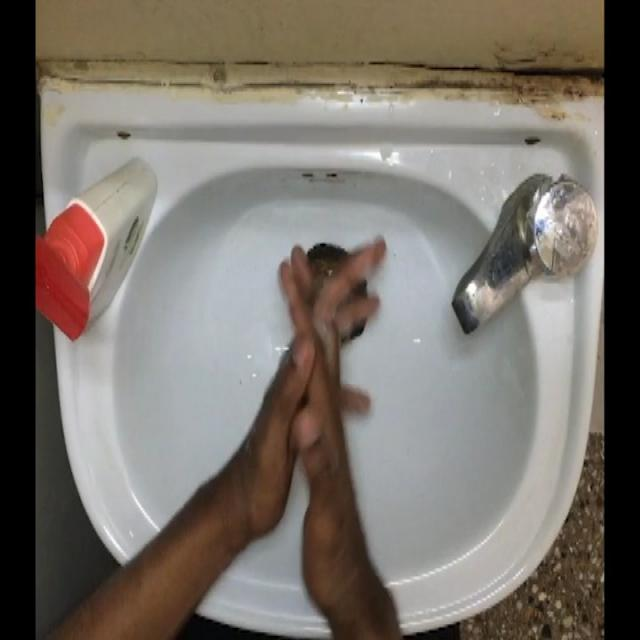step_3: (262, 223, 393, 545)
